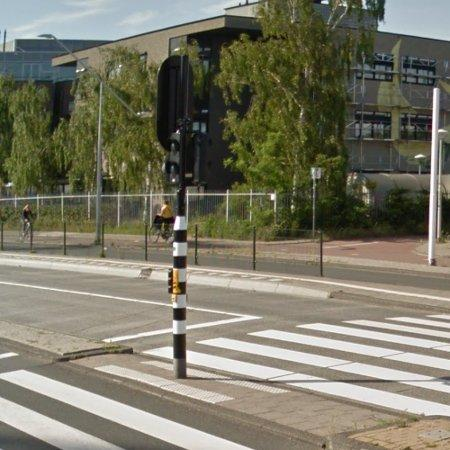crosswalks: (0, 314, 450, 450)
